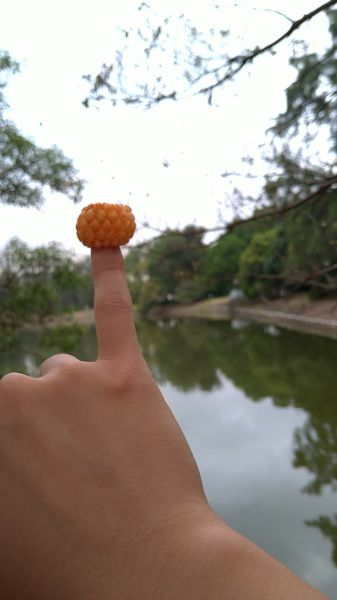eggs: (76, 201, 136, 248)
